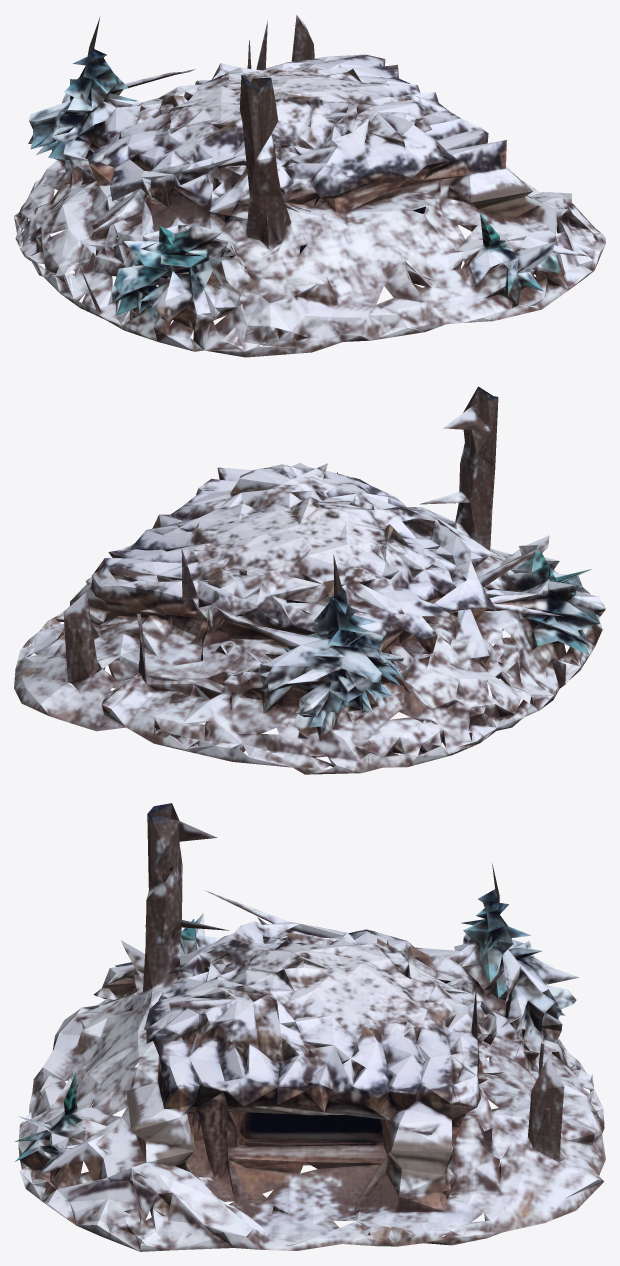
The model's file is foxhole_logs.obj.
3 renders of one model, top to bottom at view 1: azimuth 30°, elevation 25°; view 2: azimuth 150°, elevation 25°; view 3: azimuth 270°, elevation 25°, orthographic. The views are drawn at different scales.
Parts seen in each view (by area): view 1: foxhole_logs; view 2: foxhole_logs; view 3: foxhole_logs.
Boxes of the visible parts, bbox=[...] form: foxhole_logs: bbox=[14, 15, 605, 357]; foxhole_logs: bbox=[14, 386, 605, 774]; foxhole_logs: bbox=[15, 803, 605, 1251].
Bounding box in the file's own units: 4.99 × 2.57 × 5.
1 material, 1 textured.
